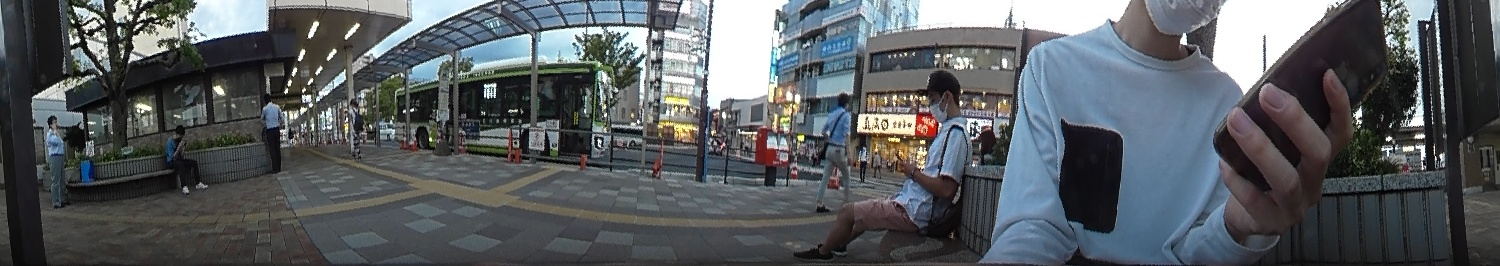difficult_person: (857, 141, 869, 178), (872, 147, 883, 175)
person: (793, 63, 973, 266), (817, 92, 858, 209), (163, 121, 210, 194), (44, 113, 71, 209), (255, 89, 287, 169), (347, 93, 369, 154)
